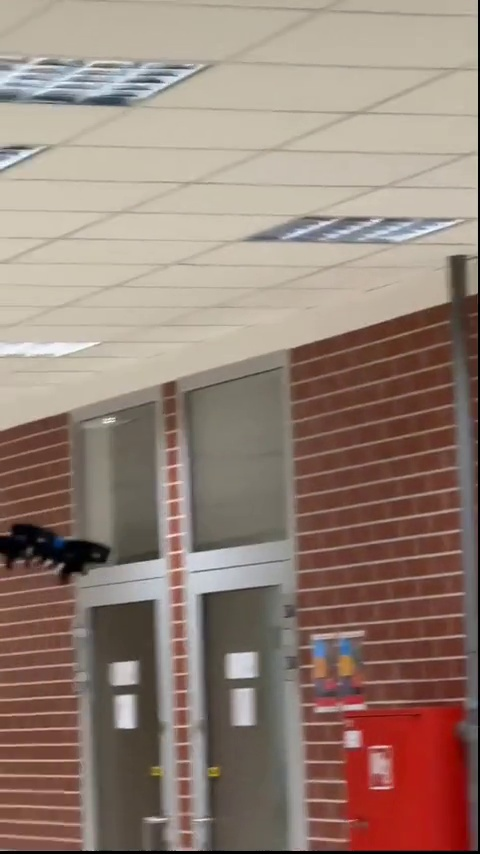drone: (0, 514, 102, 584)
